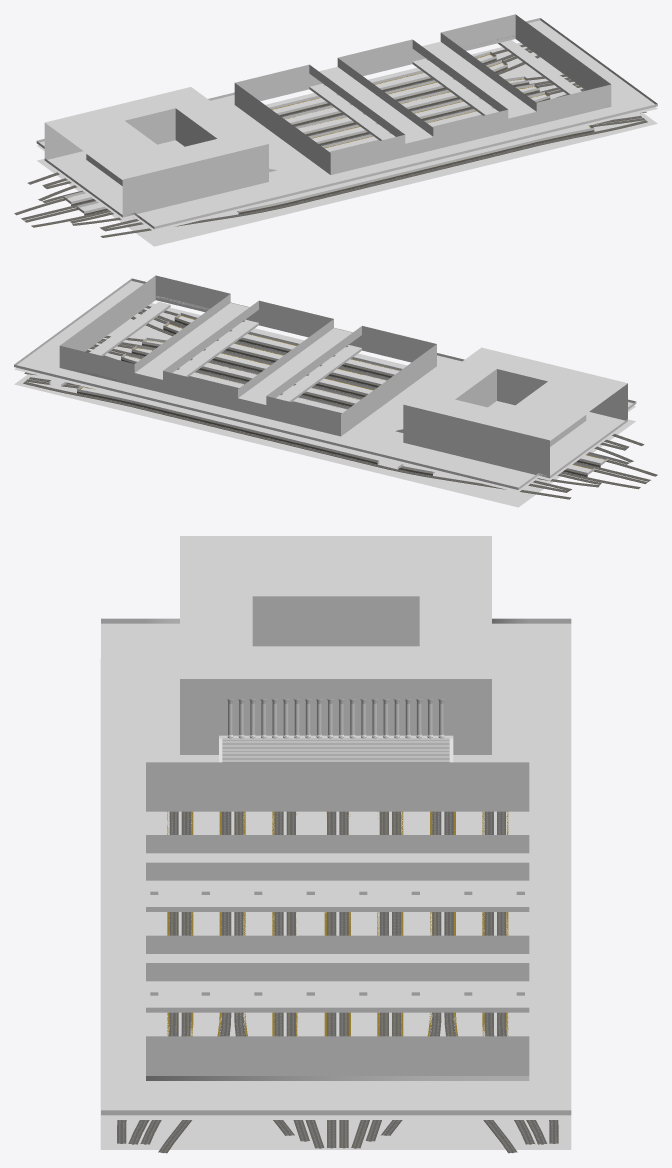
File: Level_01.fbx
3 renders of one model, top to bottom at view 1: azimuth 30°, elevation 25°; view 2: azimuth 150°, elevation 25°; view 3: azimuth 270°, elevation 25°, orthographic. The views are drawn at different scales.
Parts seen in each view (by area): view 1: Penn_Interior, Moynihan_Exterior, Walkable_COL, Street_Ground, Home_Ground, Platforms, Tracks, Home_Ceiling, Penn_Bridges, Subway123, Moynihan_Interior; view 2: Penn_Interior, Moynihan_Exterior, Walkable_COL, Street_Ground, Home_Ground, Platforms, Tracks, Home_Ceiling, Penn_Bridges, Subway123, Moynihan_Interior; view 3: Moynihan_Exterior, Penn_Interior, Street_Ground, Walkable_COL, Penn_Bridges, Tracks, Platforms, Home_Ground, Home_Ceiling, Moynihan_Interior.
Part boxes in pixels (x1,y1,x2,y2): Penn_Interior: (234,14,611,174); Moynihan_Exterior: (44,87,276,217); Walkable_COL: (36,18,657,229); Street_Ground: (39,20,654,226); Home_Ground: (37,42,657,246); Platforms: (63,54,594,215); Tracks: (14,44,647,237); Home_Ceiling: (37,36,657,231); Penn_Bridges: (310,58,498,140); Subway123: (498,40,581,94); Moynihan_Interior: (86,130,194,185); Penn_Interior: (59,275,436,436); Moynihan_Exterior: (396,347,627,478); Walkable_COL: (14,278,636,489); Street_Ground: (17,281,633,487); Home_Ground: (14,303,635,507); Platforms: (77,315,608,476); Tracks: (23,306,657,499); Home_Ceiling: (14,298,635,492); Penn_Bridges: (172,319,361,401); Subway123: (49,302,170,387); Moynihan_Interior: (478,391,586,446); Moynihan_Exterior: (180,536,491,762); Penn_Interior: (146,762,529,1075); Street_Ground: (101,623,571,1110); Walkable_COL: (101,618,571,1115); Penn_Bridges: (146,880,529,1007); Tracks: (117,811,558,1153); Platforms: (146,811,529,1036); Home_Ground: (100,658,571,1149); Home_Ceiling: (101,806,571,1119); Moynihan_Interior: (252,640,419,646).
Bounding box in the file's own units: 49445 × 4520 × 17390.
4 materials, 1 textured.
